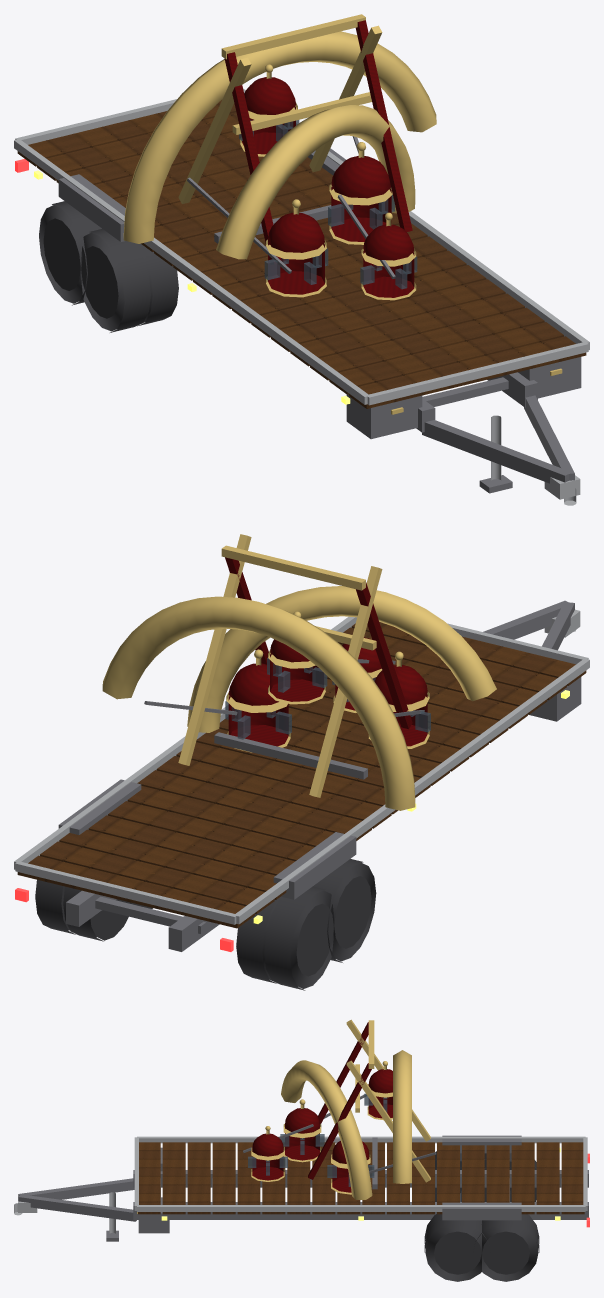
File: trailer_ferris.glb
3 views of the same model, one above another, from view 1: azimuth 30°, elevation 25°; view 2: azimuth 150°, elevation 25°; view 3: azimuth 270°, elevation 25° (orthographic). The views are drawn at different scales.
Parts seen in each view (by area): view 1: body, wheel_L2_1, wheel_L2_0, wheel_L_1; view 2: body, wheel_L2_0, wheel_L2_1, wheel_L_0, wheel_R_0, wheel_R2_0; view 3: body, wheel_R2_1, wheel_R2_0.
Part boxes in pixels (x1,y1,x2,y2): body: [14, 14, 589, 505]; wheel_L2_1: [81, 228, 150, 332]; wheel_L2_0: [39, 201, 101, 305]; wheel_L_1: [137, 243, 178, 326]; body: [14, 534, 589, 951]; wheel_L2_0: [264, 886, 333, 990]; wheel_L2_1: [313, 859, 376, 962]; wheel_L_0: [236, 897, 280, 983]; wheel_R_0: [63, 886, 133, 941]; wheel_R2_0: [35, 879, 75, 934]; body: [14, 1019, 588, 1241]; wheel_R2_1: [424, 1219, 487, 1281]; wheel_R2_0: [475, 1219, 539, 1281].
Size of the model in its own units: 3.34 by 3.24 by 8.34.
Materials: 9 (2 with a texture image).
